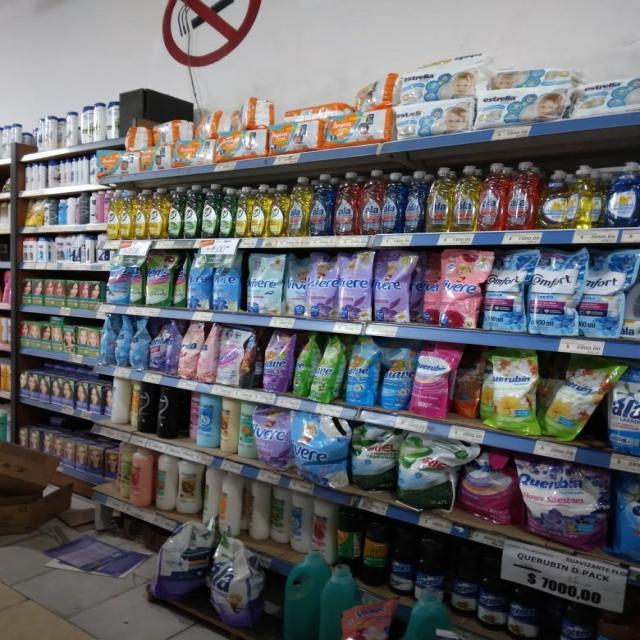ala_conc_amarillo: (452, 164, 478, 232), (427, 166, 452, 233), (289, 177, 309, 237)
ala_conc_azul: (310, 174, 333, 236), (404, 170, 426, 233), (382, 170, 403, 234)
ala_conc_rojo: (506, 162, 537, 230), (479, 162, 505, 232), (334, 171, 359, 236), (359, 169, 382, 235)
cif_conc_bot_amarilla: (270, 182, 288, 238), (148, 187, 167, 239), (251, 184, 268, 238), (236, 185, 250, 238), (134, 188, 148, 240), (120, 190, 133, 240), (109, 190, 119, 240)
cif_conc_botella_verde: (184, 184, 200, 239), (202, 184, 218, 238), (220, 186, 235, 237), (168, 186, 182, 239)
drive: (480, 347, 540, 435)
magistral_con_amarillo: (567, 164, 598, 228), (538, 168, 566, 229), (587, 164, 605, 228)
magistral_con_azul: (606, 160, 640, 228)
